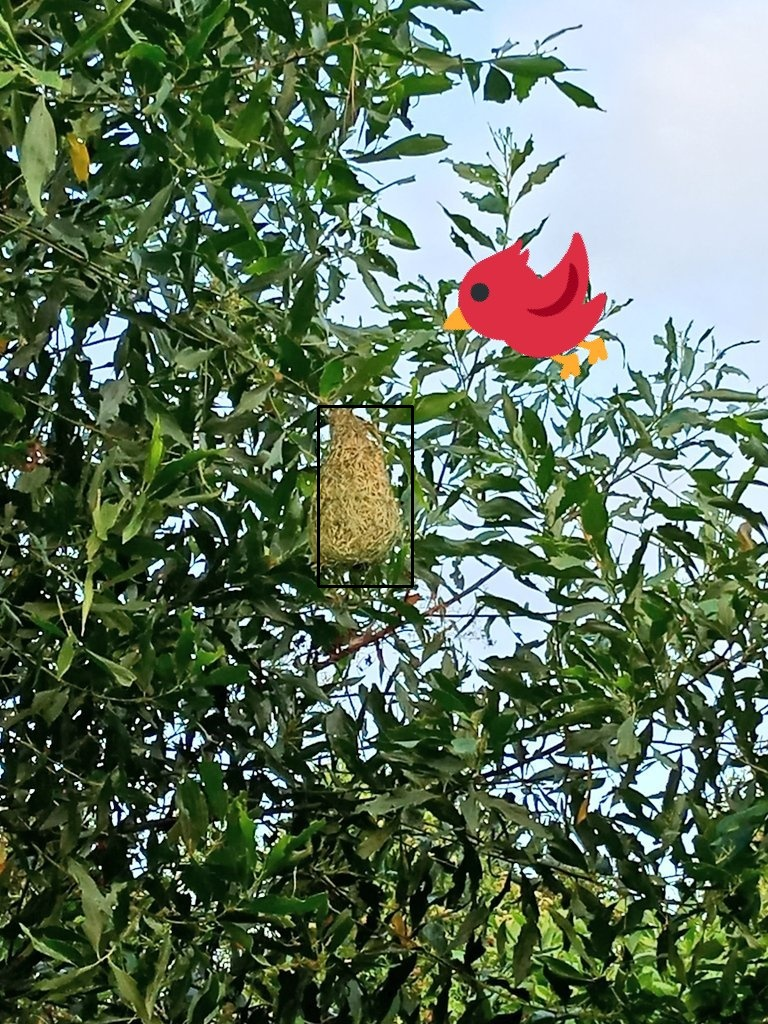bird-nest: (318, 406, 412, 586)
